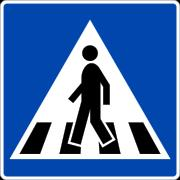Pedestrian Crossing: (11, 19, 170, 165)
